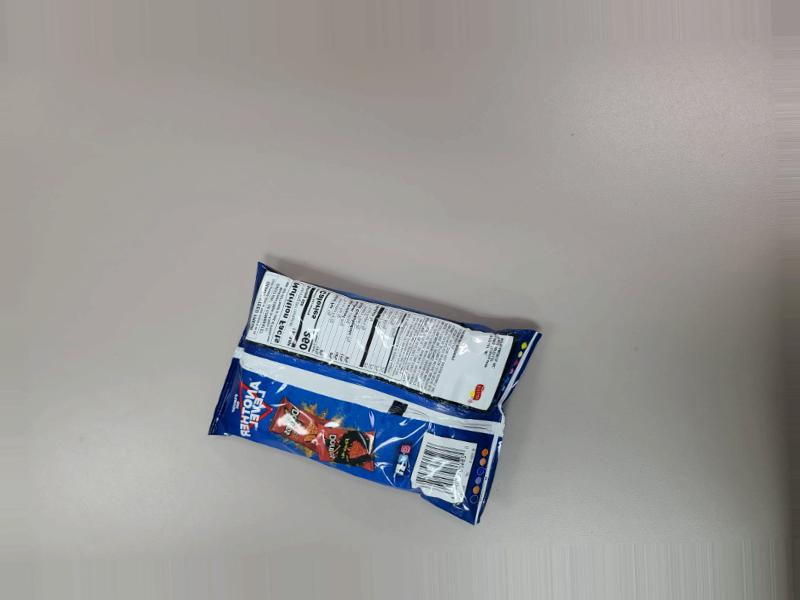doritos: (225, 240, 521, 535)
